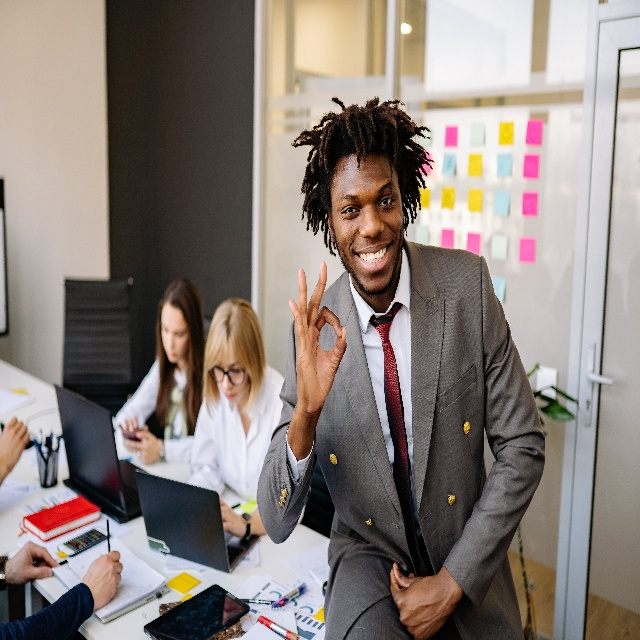Gafas: (207, 363, 246, 386)
Sin_guantes: (287, 261, 346, 419), (389, 561, 456, 640), (4, 540, 60, 585), (82, 549, 123, 610), (0, 416, 31, 481), (124, 427, 161, 462), (218, 496, 245, 537), (119, 415, 147, 440)
